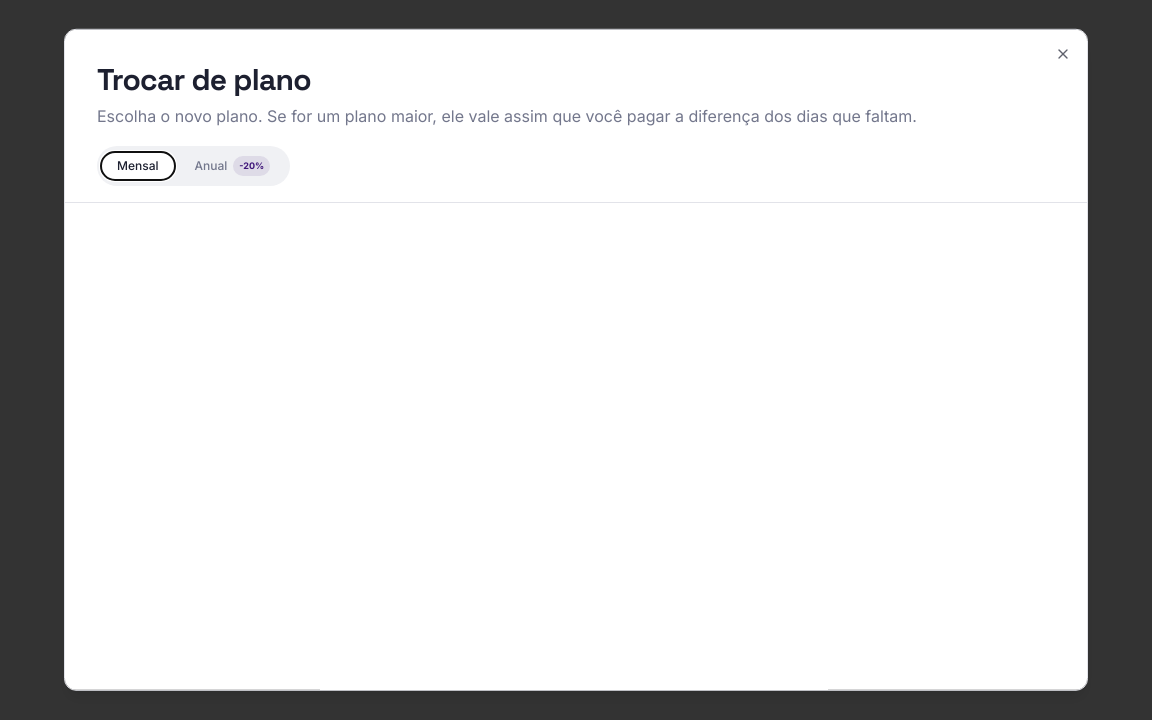
Test case: P48 mesmo plano mensal -> anual › (e) ativo mensal com 0 ciclos + Anual: o botão aparece (a linha P47 não, pois ciclos_pagos é 0)
This screenshot has width=1152, height=720.
Click the button "Anual -20%": coordinates (232, 166) x1=178 y1=150 x2=286 y2=182
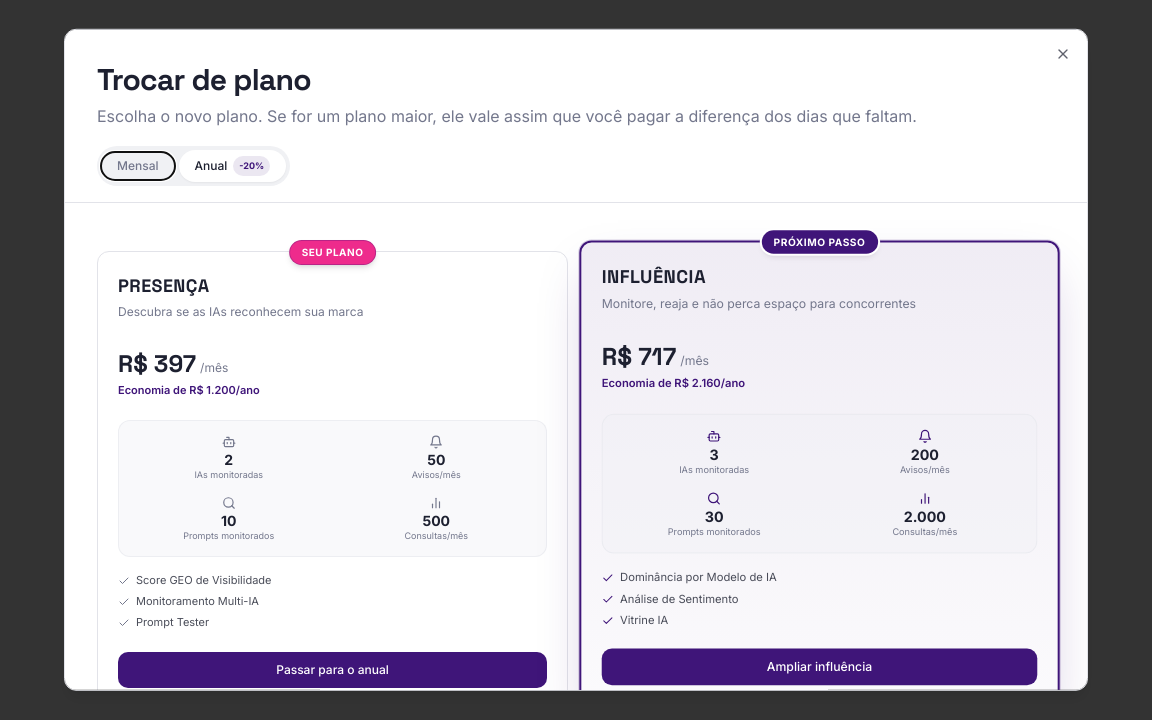
Result: the button "Passar para o anual" is shown at x1=118 y1=652 x2=547 y2=688
